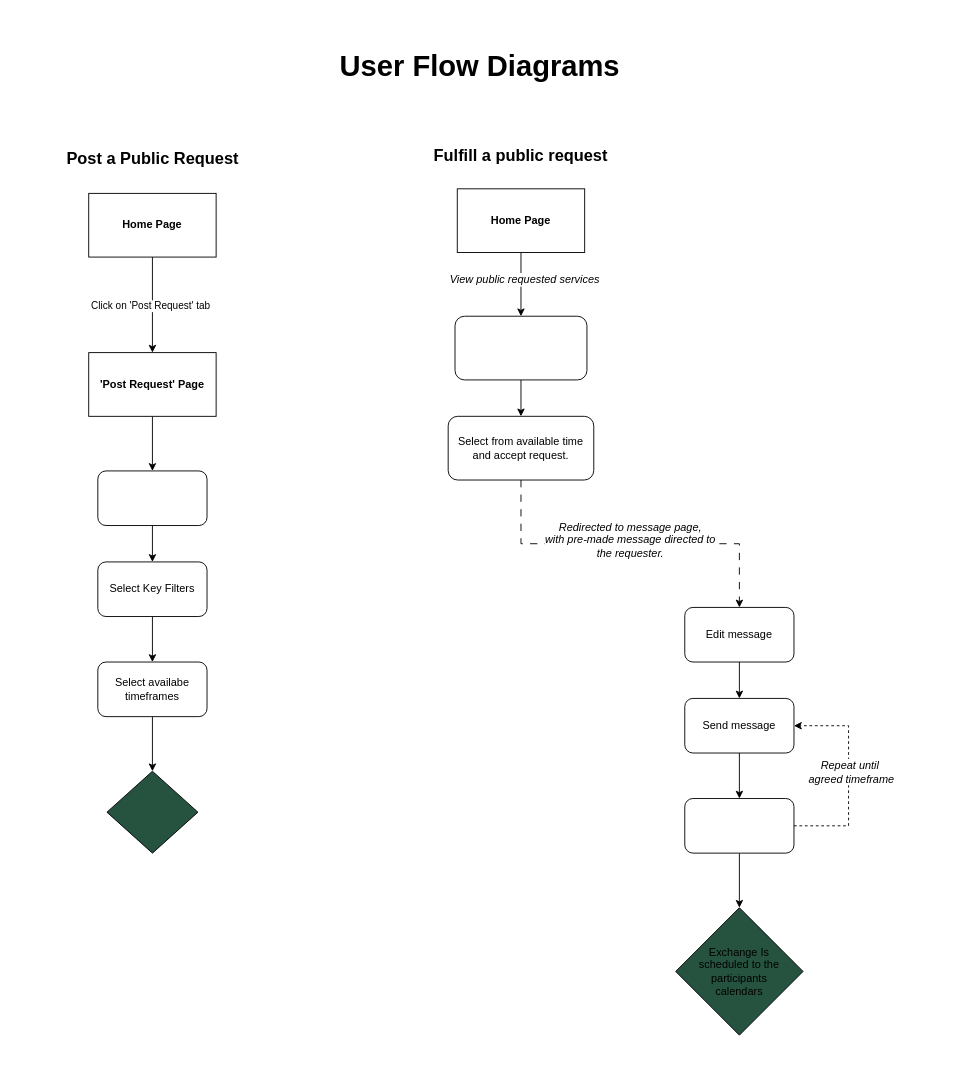
Some shapes in this 959 by 1077 pixel diagram are drawn without their labels. Each missing label, with the centre of its shape:
Confirm timeframe with requester: the point at 739,825
Fill out request Information: the point at 152,498
Post Request: the point at 152,811
Select public request to expand information. (from dropdown box): the point at 520,347
